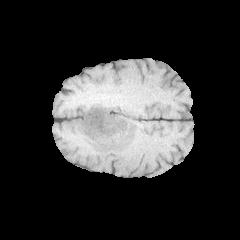glioma: (68, 102, 139, 154)
